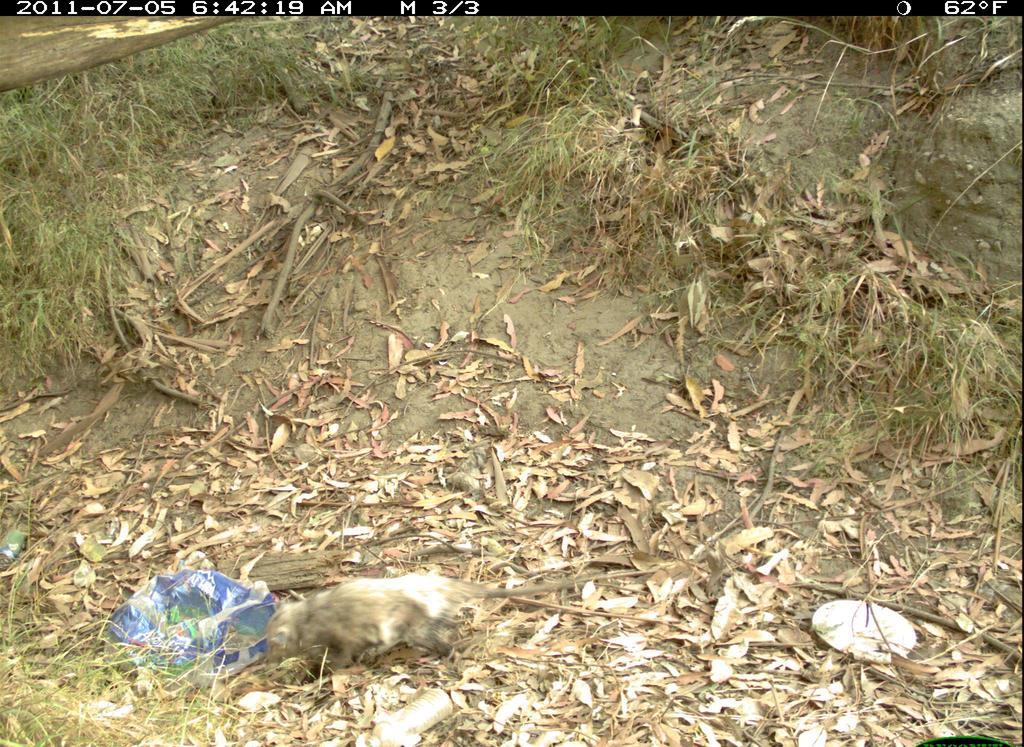opossum: (249, 553, 678, 706)
